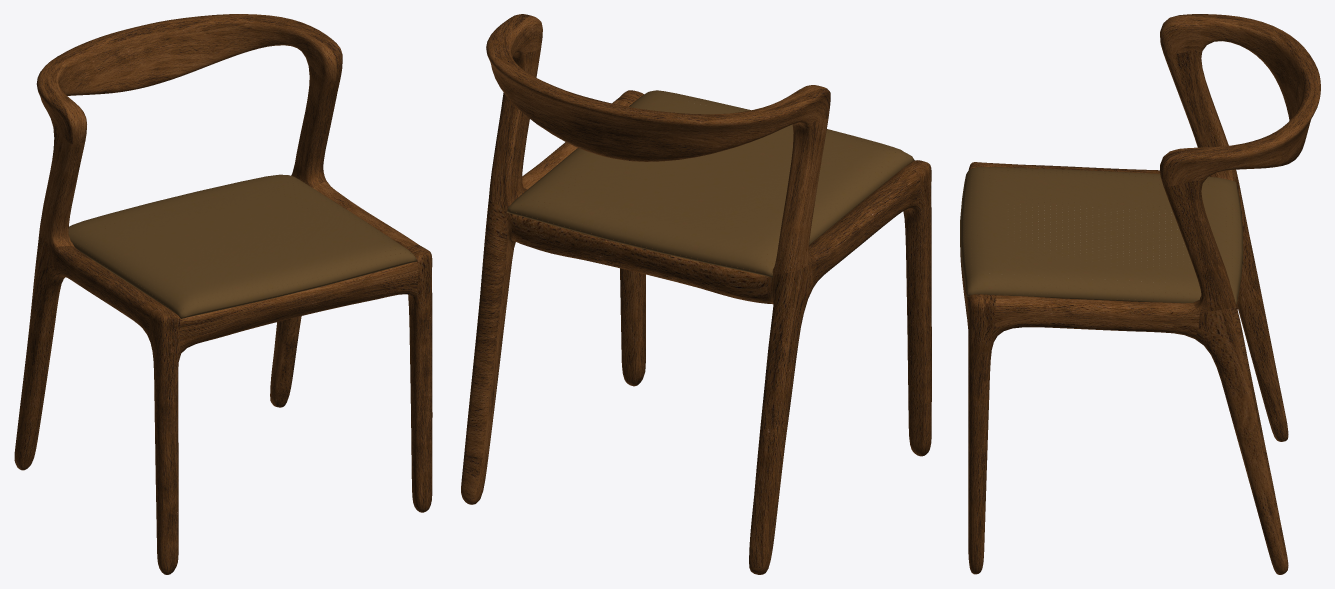
File: chairsofa.glb
The picture shows the model from 3 angles, left to right: view 1: azimuth 30°, elevation 25°; view 2: azimuth 150°, elevation 25°; view 3: azimuth 270°, elevation 25°; orthographic projection. The views are drawn at different scales.
Visible parts, largest first — view 1: Duda Chair; view 2: Duda Chair; view 3: Duda Chair.
Part boxes in pixels (x1,y1,x2,y2): Duda Chair: (14, 14, 432, 574); Duda Chair: (461, 14, 931, 574); Duda Chair: (960, 14, 1320, 574).
Bounding box in the file's own units: 0.4938 × 0.6793 × 0.5244.
2 materials, 2 textured.
